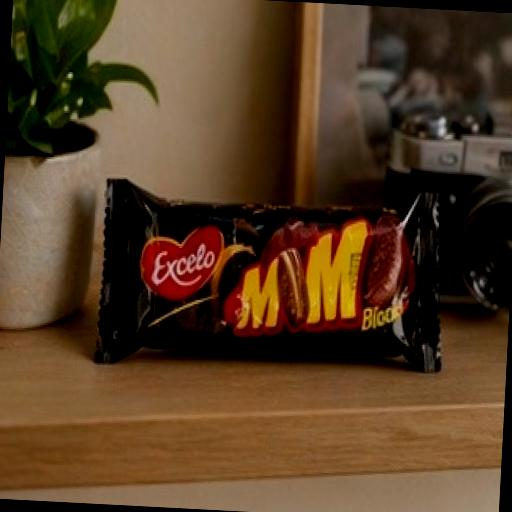MOMO: (50, 114, 500, 500)
